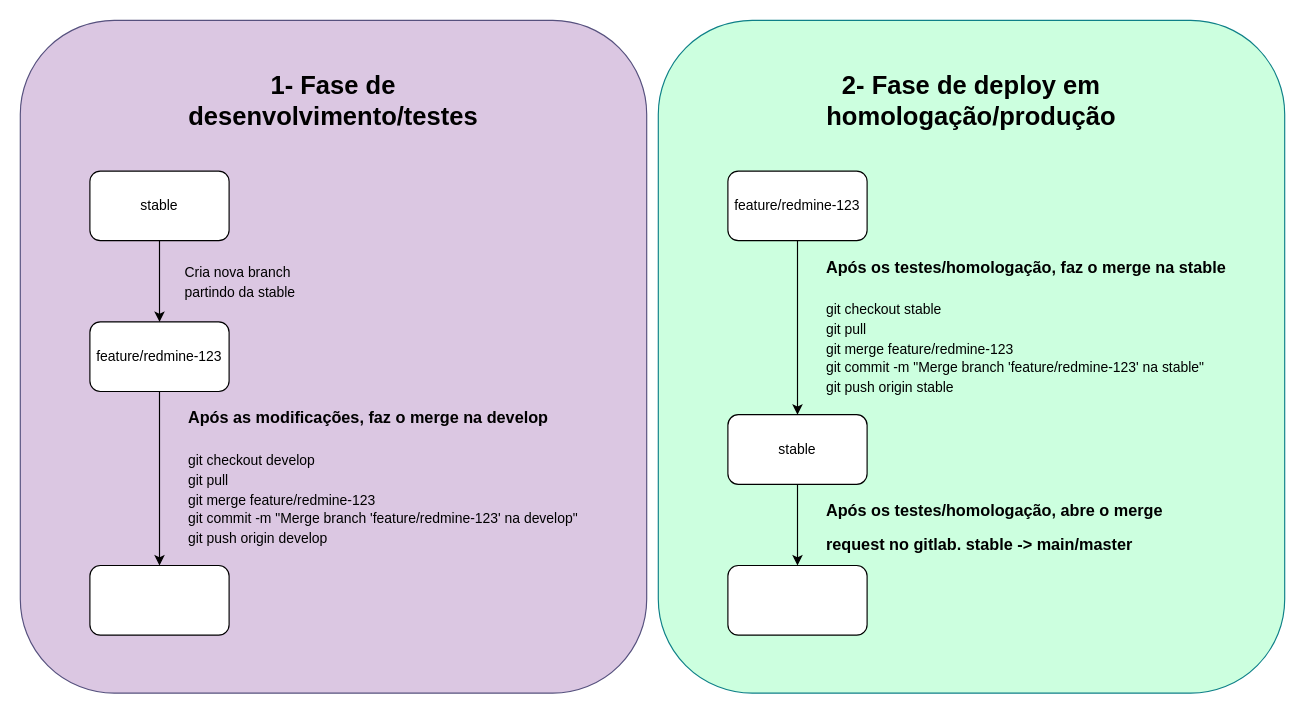
This 1305x713 diagram has some shape labels left out. The shapes that lost their labels are listed below. From the top down, each one's centre as x and y in pixels, then its label:
At point (159, 599): "develop".
At point (797, 599): "main/master".
